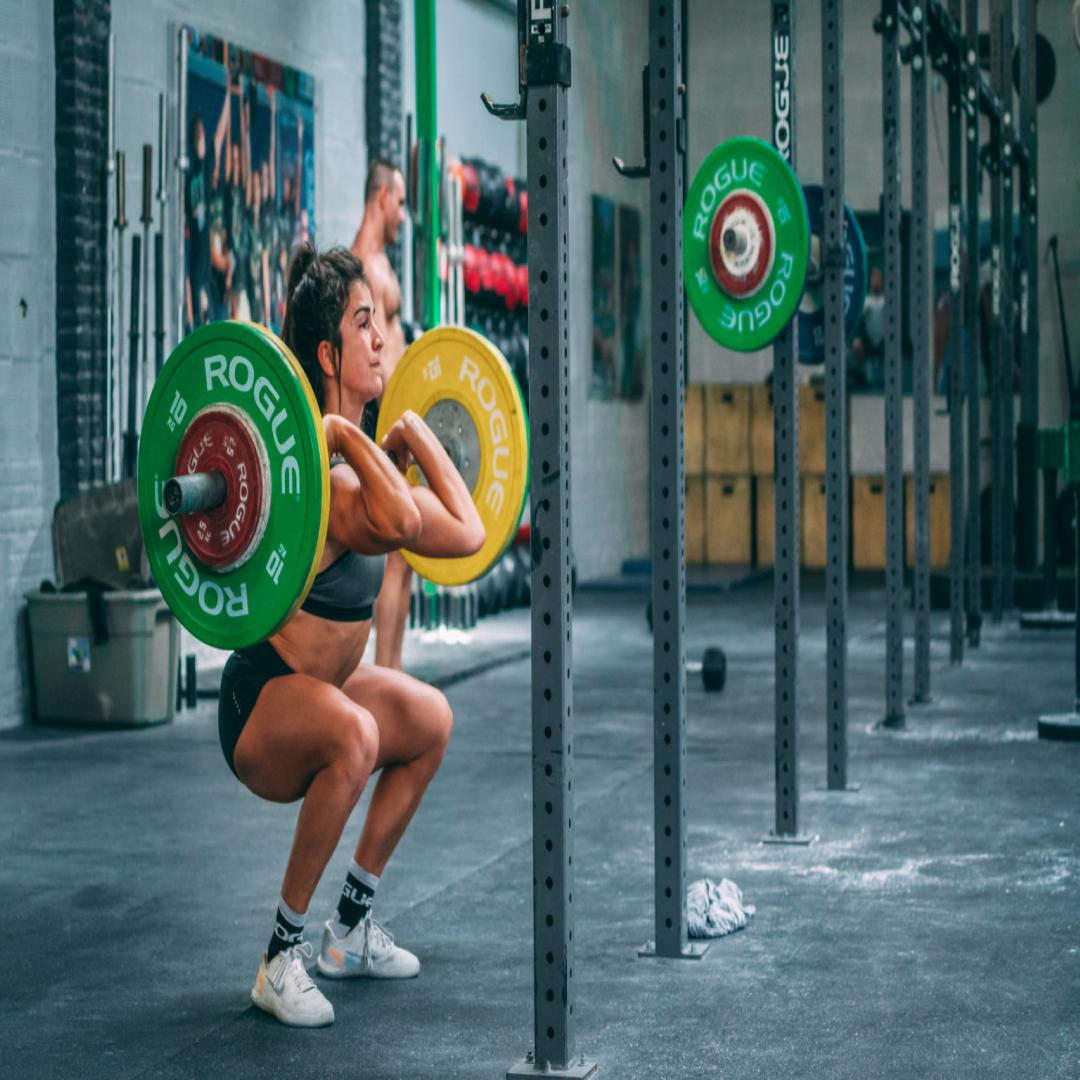Bar: (161, 475, 186, 520)
Barbell: (139, 320, 321, 651)
